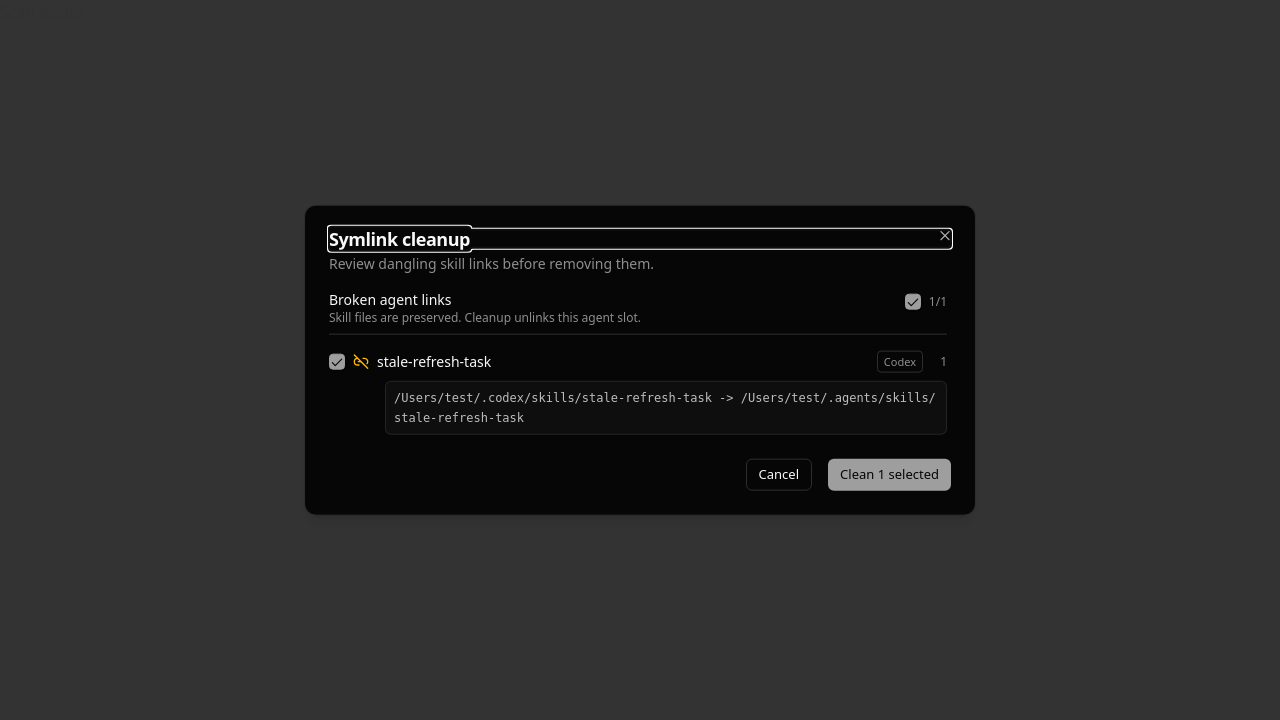
Test: SymlinkCleanupDialog › refreshes every dashboard source when rescanning after a post-mutation stale prompt
Click the button "Clean 1 selected": [890, 474] box [828,458,951,490]
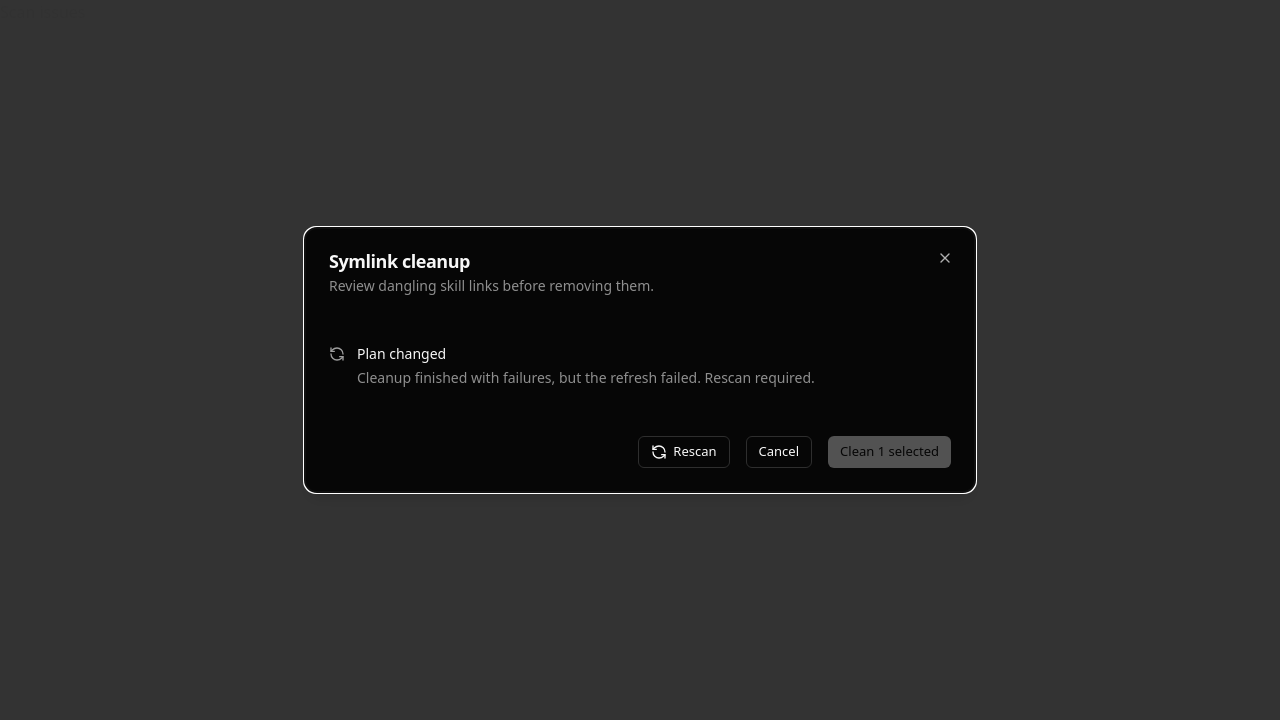
Click the button "Rescan": [684, 452] box [638,436,730,468]
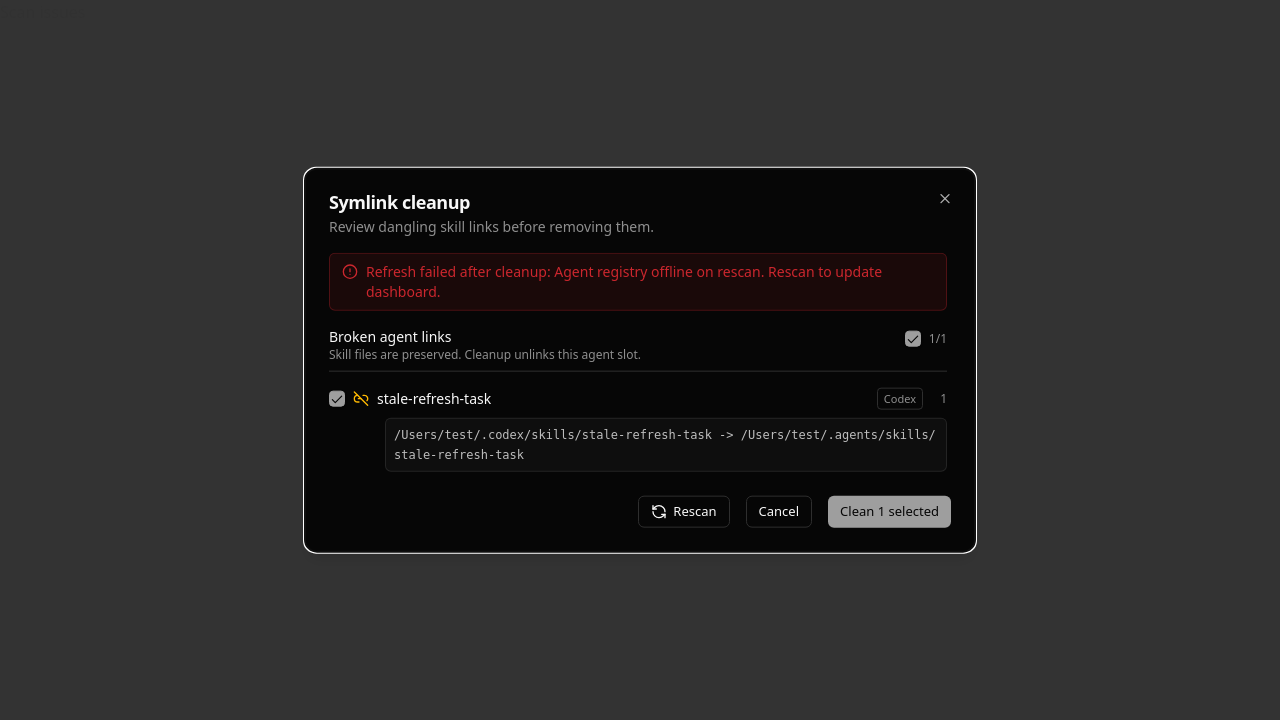
Expected: the text "Agent registry offline on rescan" is shown, [366,262,882,301]
